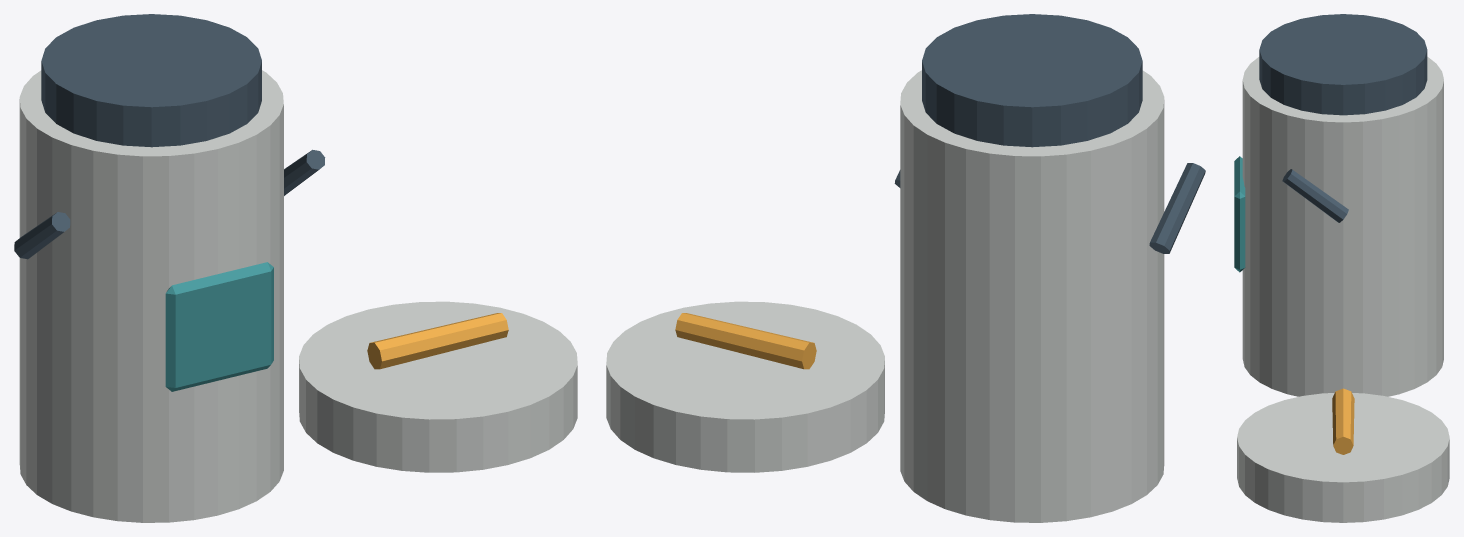
The picture shows the model from 3 angles, left to right: view 1: azimuth 30°, elevation 25°; view 2: azimuth 150°, elevation 25°; view 3: azimuth 270°, elevation 25°; orthographic projection. The views are drawn at different scales.
Parts seen in each view (by area): view 1: ME-048 Indexed geological sample cache batched; view 2: ME-048 Indexed geological sample cache batched; view 3: ME-048 Indexed geological sample cache batched.
Boxes of the visible parts, x1,y1,x2,y2 form: ME-048 Indexed geological sample cache batched: (14, 14, 577, 522); ME-048 Indexed geological sample cache batched: (606, 14, 1205, 522); ME-048 Indexed geological sample cache batched: (1234, 14, 1449, 522).
Size of the model in its own units: 0.856 by 0.635 by 0.385.
